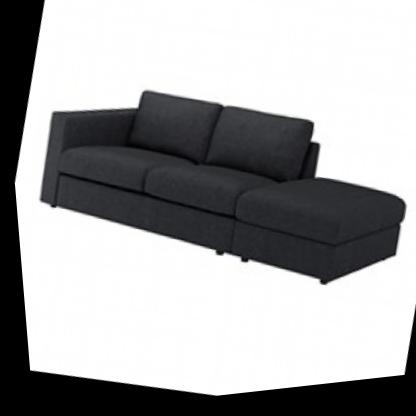Sofa: (4, 25, 416, 350)
